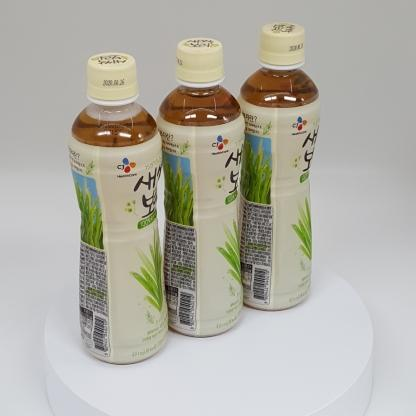CJ-----410ML: (68, 52, 168, 364), (155, 37, 245, 337), (234, 22, 321, 311)
